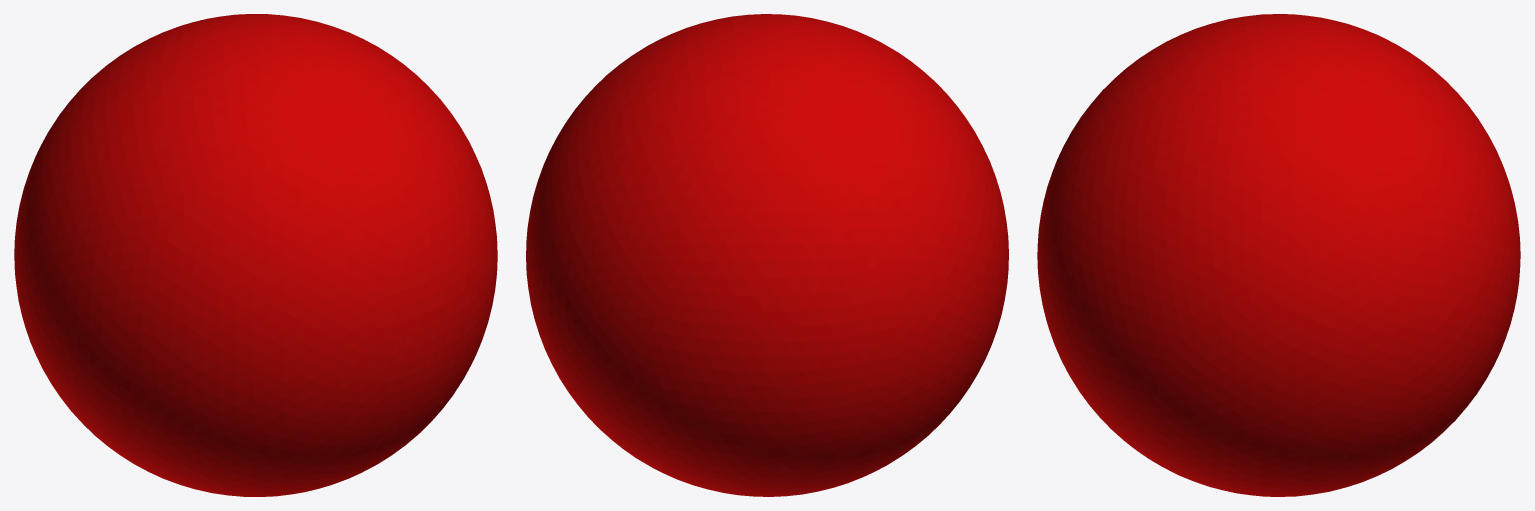
File: red.obj
3 views of the same model, side by side, from view 1: azimuth 30°, elevation 25°; view 2: azimuth 150°, elevation 25°; view 3: azimuth 270°, elevation 25° (orthographic).
Visible parts, largest first — view 1: Icosphere; view 2: Icosphere; view 3: Icosphere.
Boxes of the visible parts, x1=… form: Icosphere: x1=14, y1=14, x2=497, y2=496; Icosphere: x1=526, y1=14, x2=1008, y2=496; Icosphere: x1=1037, y1=14, x2=1520, y2=496.
Bounding box in the file's own units: 0.061 × 0.061 × 0.061.
